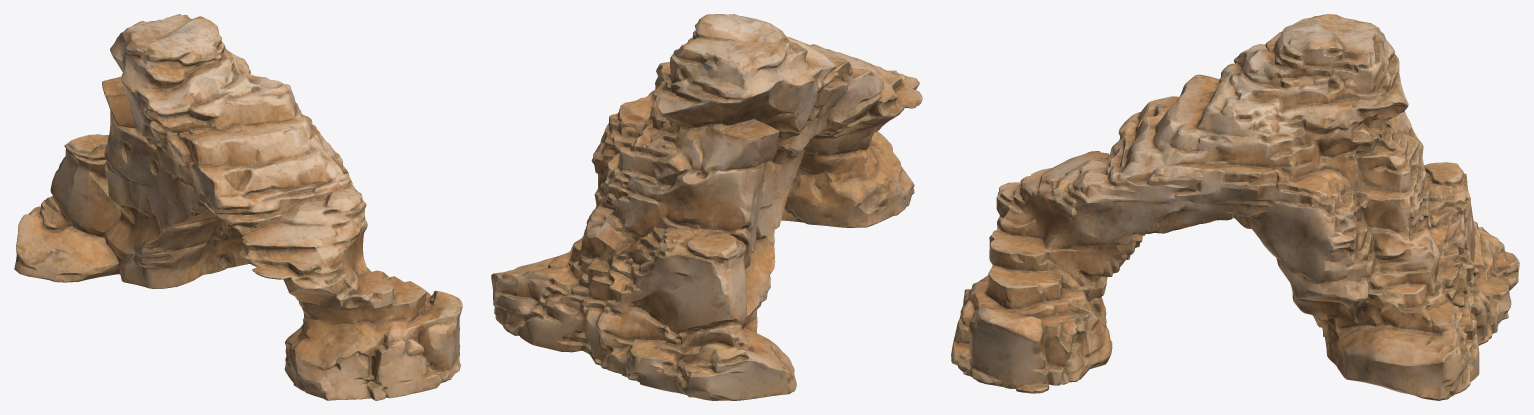
Rendered from rock_17.glb.
3 views of the same model, side by side, from view 1: azimuth 30°, elevation 25°; view 2: azimuth 150°, elevation 25°; view 3: azimuth 270°, elevation 25° (orthographic). The views are drawn at different scales.
Parts seen in each view (by area): view 1: model.011; view 2: model.011; view 3: model.011.
Boxes of the visible parts, bbox=[...] form: model.011: bbox=[14, 14, 462, 400]; model.011: bbox=[491, 14, 922, 400]; model.011: bbox=[951, 14, 1519, 400].
Bounding box in the file's own units: 1.16 × 1.06 × 1.9.
1 material, 1 textured.
